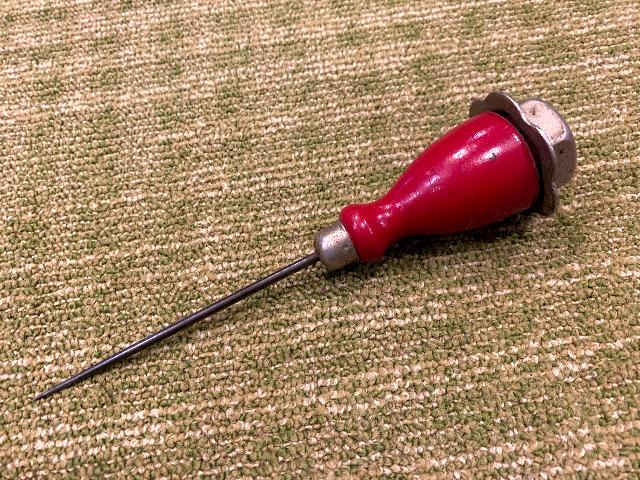ice pick: (24, 92, 576, 408)
